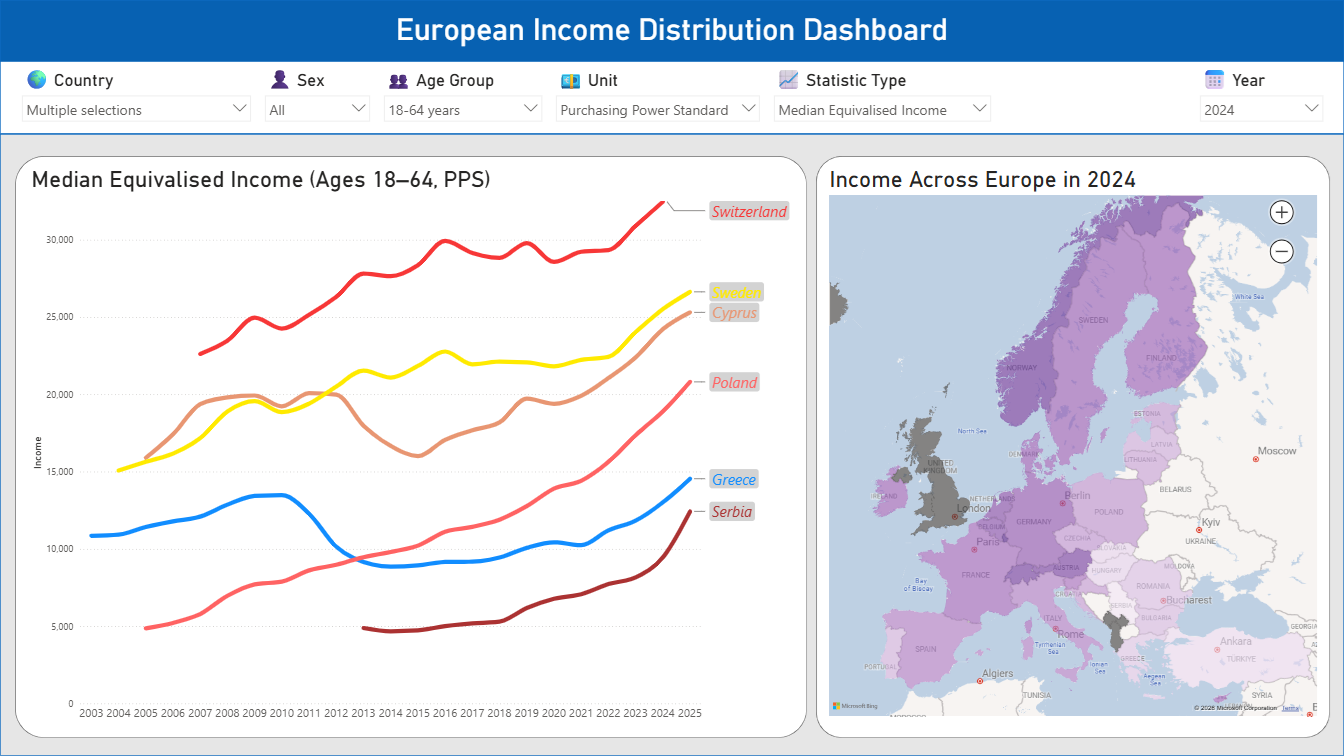

The page's visual inventory and layout, read from the dashboard file:
{"tool":"powerbi","page":{"name":"Income Distribution Dashboard","canvas":[1920,1300],"ordinal":0},"visuals":[{"type":"shape","title":"Background","box":[0,0,1920,1400],"z":0},{"type":"shape","title":"Line Chart Background","box":[21.7,420,1130,861.7],"z":1000},{"type":"shape","title":"Map Background","box":[1166.7,420,733.3,861.7],"z":2000},{"type":"shape","title":"Filters Background","box":[20,173.3,1880,226.7],"z":3000},{"type":"shape","title":"Title Background","box":[0,0,1920,171.7],"z":4000},{"type":"shape","title":"Countries Background","box":[45.7,196.7,595,180.6],"z":5000},{"type":"shape","title":"Demographics Background","box":[663,196,595,180.7],"z":6000},{"type":"shape","title":"Income Background","box":[1281.7,195.8,595,181.7],"z":7000},{"type":"shapeMap","title":"Income by country","fields":{"Category":["dim_country.country_name"]},"box":[1184,436,716,840],"z":8000},{"type":"lineChart","title":"Income trends across Europe","fields":{"Category":["fact_income.year"],"Series":["dim_country.country_name"],"Y":["Sum(fact_income.income)"]},"box":[40,436,1112,840],"z":9000},{"type":"slicer","fields":{"Values":["dim_country.country_name"]},"box":[59.5,259.5,567,105.5],"z":10000},{"type":"slicer","fields":{"Values":["fact_income.year"]},"box":[1680,423.3,210,96.7],"z":11000},{"type":"slicer","fields":{"Values":["dim_sex.sex_label"]},"box":[676.7,259.4,277,105],"z":12000},{"type":"slicer","fields":{"Values":["dim_age.age_label"]},"box":[966.7,260,276.7,105],"z":13000},{"type":"slicer","fields":{"Values":["dim_unit.unit_label"]},"box":[1295.9,259.4,277,105],"z":14000},{"type":"slicer","fields":{"Values":["dim_statinfo.statinfo_label"]},"box":[1585,260,276.7,105],"z":15000},{"type":"textbox","title":"Title","box":[22.5,0,931.7,141.7],"z":16000},{"type":"image","title":"Map Legend","box":[1185,1232.6,240,40],"z":17000},{"type":"cardVisual","title":"Legend Max","fields":{"Data":["fact_income.Legend Max"]},"box":[1305,1191.2,147.1,67.1],"z":18000},{"type":"cardVisual","title":"Legend Min","fields":{"Data":["fact_income.Legend Min"]},"box":[1156.7,1187.1,163.4,74.7],"z":19000},{"type":"textbox","title":"Countries Select","box":[60,200,308.3,70],"z":20000},{"type":"textbox","title":"Population Select","box":[674.8,200,203.8,70.8],"z":21000},{"type":"textbox","title":"Unit Settings Select","box":[1295,200,296.7,71.7],"z":22000},{"type":"textbox","box":[1692.5,22.5,206.7,95],"z":23000}]}

Visuals, with their boxes on the page's 1920x1300 design canvas (x1, y1, x2, y2). These are canvas units, not pixel positions in the 1344x756 screenshot, which may show the page scaled, cropped or inside an application window:
"Background" shape: rect(0, 0, 1920, 1400)
"Line Chart Background" shape: rect(22, 420, 1152, 1282)
"Map Background" shape: rect(1167, 420, 1900, 1282)
"Filters Background" shape: rect(20, 173, 1900, 400)
"Title Background" shape: rect(0, 0, 1920, 172)
"Countries Background" shape: rect(46, 197, 641, 377)
"Demographics Background" shape: rect(663, 196, 1258, 377)
"Income Background" shape: rect(1282, 196, 1877, 378)
"Income by country" shapeMap: rect(1184, 436, 1900, 1276)
"Income trends across Europe" lineChart: rect(40, 436, 1152, 1276)
slicer - dim_country.country_name: rect(60, 260, 626, 365)
slicer - fact_income.year: rect(1680, 423, 1890, 520)
slicer - dim_sex.sex_label: rect(677, 259, 954, 364)
slicer - dim_age.age_label: rect(967, 260, 1243, 365)
slicer - dim_unit.unit_label: rect(1296, 259, 1573, 364)
slicer - dim_statinfo.statinfo_label: rect(1585, 260, 1862, 365)
"Title" textbox: rect(22, 0, 954, 142)
"Map Legend" image: rect(1185, 1233, 1425, 1273)
"Legend Max" cardVisual: rect(1305, 1191, 1452, 1258)
"Legend Min" cardVisual: rect(1157, 1187, 1320, 1262)
"Countries Select" textbox: rect(60, 200, 368, 270)
"Population Select" textbox: rect(675, 200, 879, 271)
"Unit Settings Select" textbox: rect(1295, 200, 1592, 272)
textbox: rect(1692, 22, 1899, 118)
